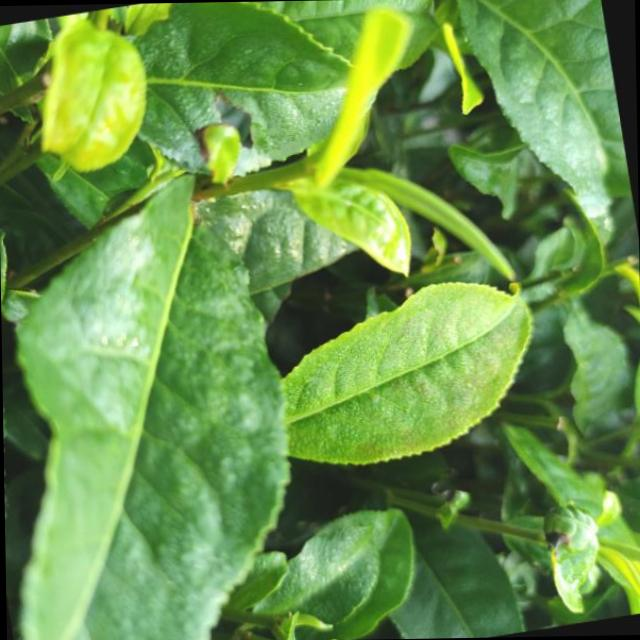Stem: (284, 160, 306, 180)
